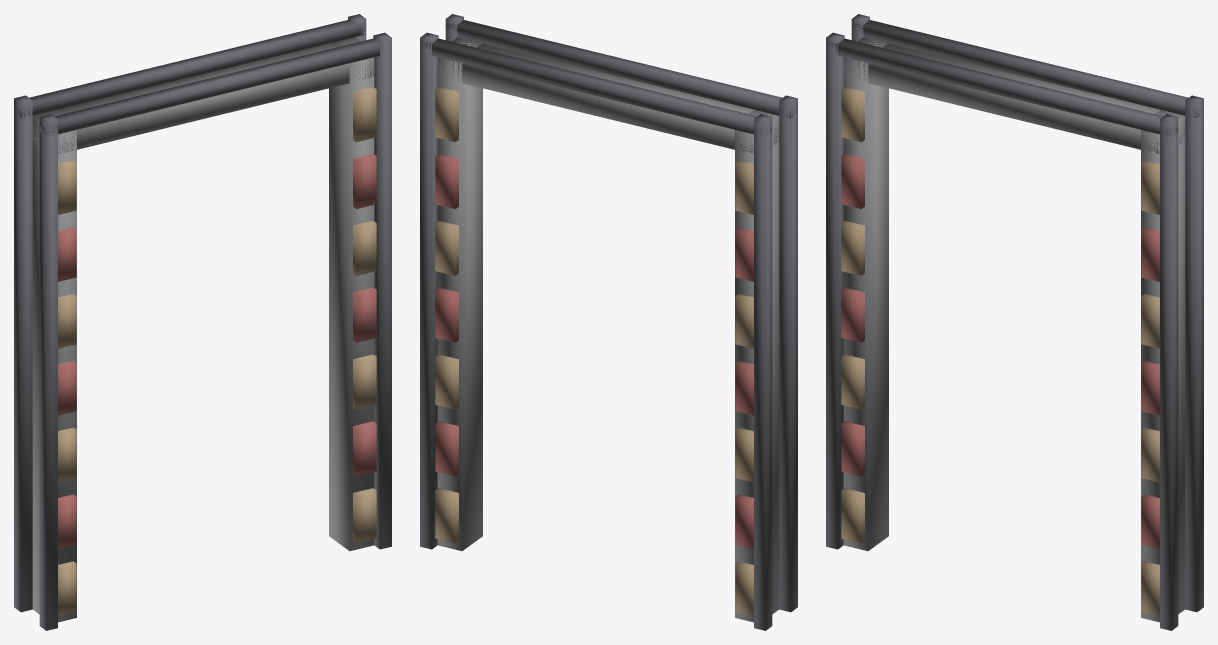
File: doorway_brick_return_w122_h200_d16.glb
3 renders of one model, left to right at view 1: azimuth 30°, elevation 25°; view 2: azimuth 150°, elevation 25°; view 3: azimuth 330°, elevation 25°, orthographic.
Parts seen in each view (by area): view 1: world; view 2: world; view 3: world.
Part boxes in pixels (x1,y1,x2,y2): world: (14, 14, 391, 630); world: (420, 14, 797, 630); world: (826, 14, 1203, 630).
Size of the model in its own units: 1.55 by 2.18 by 0.2496.
